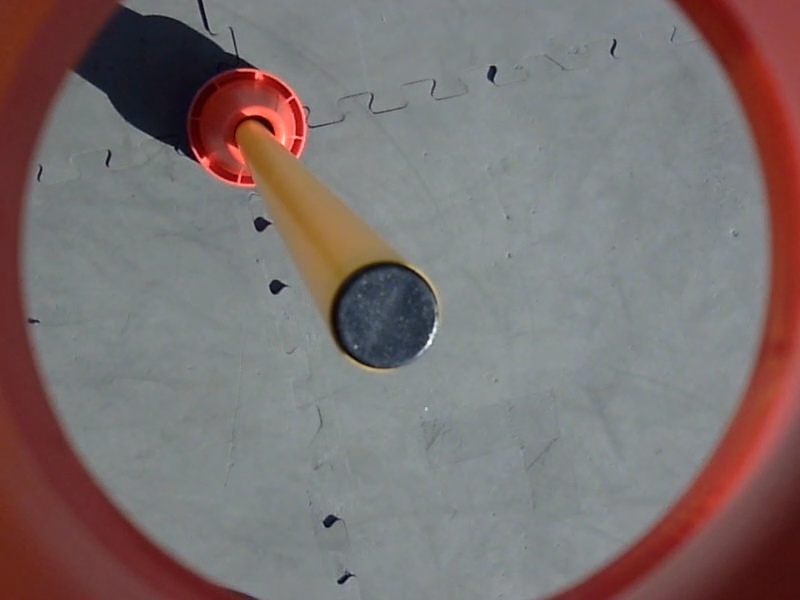tip: (322, 254, 448, 376)
